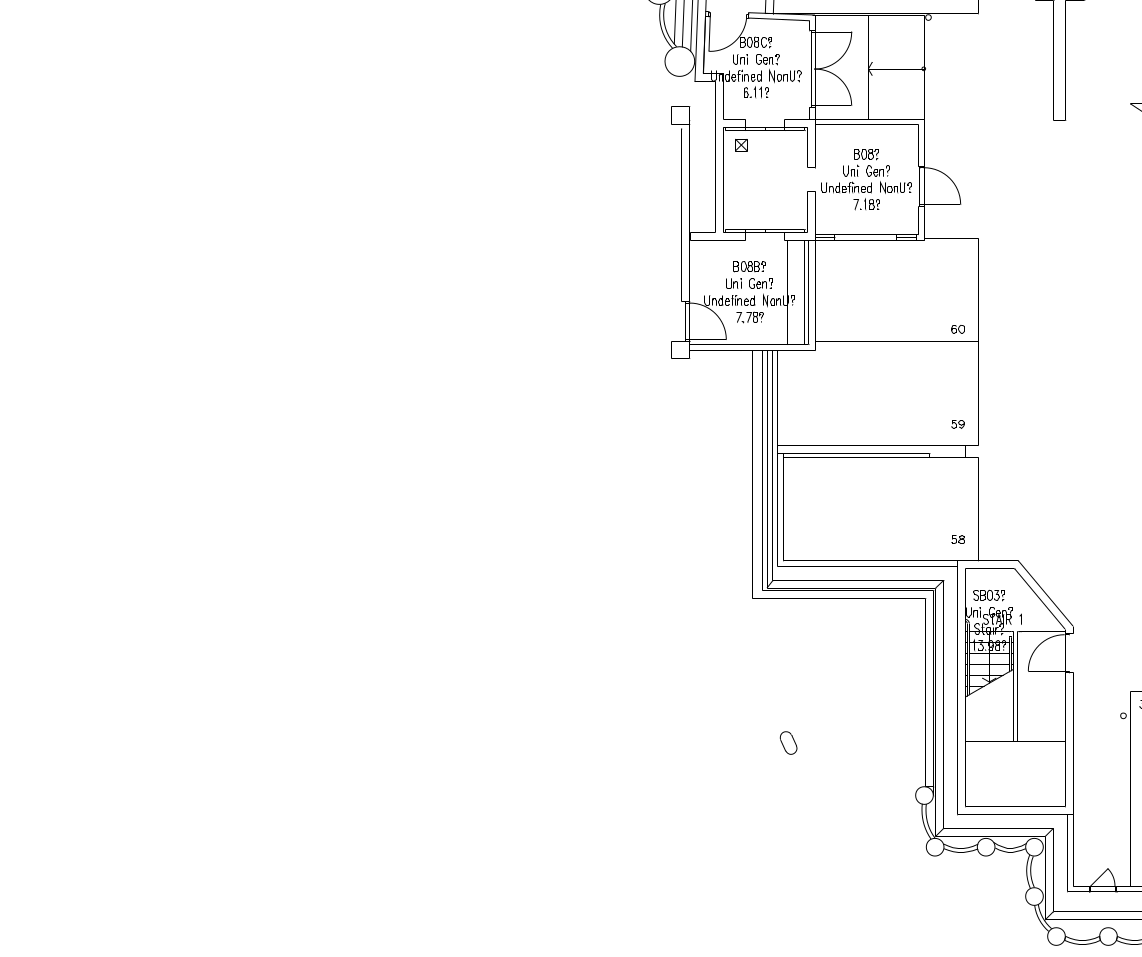door: (810, 25, 854, 109), (1021, 629, 1068, 682), (1080, 849, 1127, 902), (686, 298, 733, 343), (921, 164, 968, 209)
